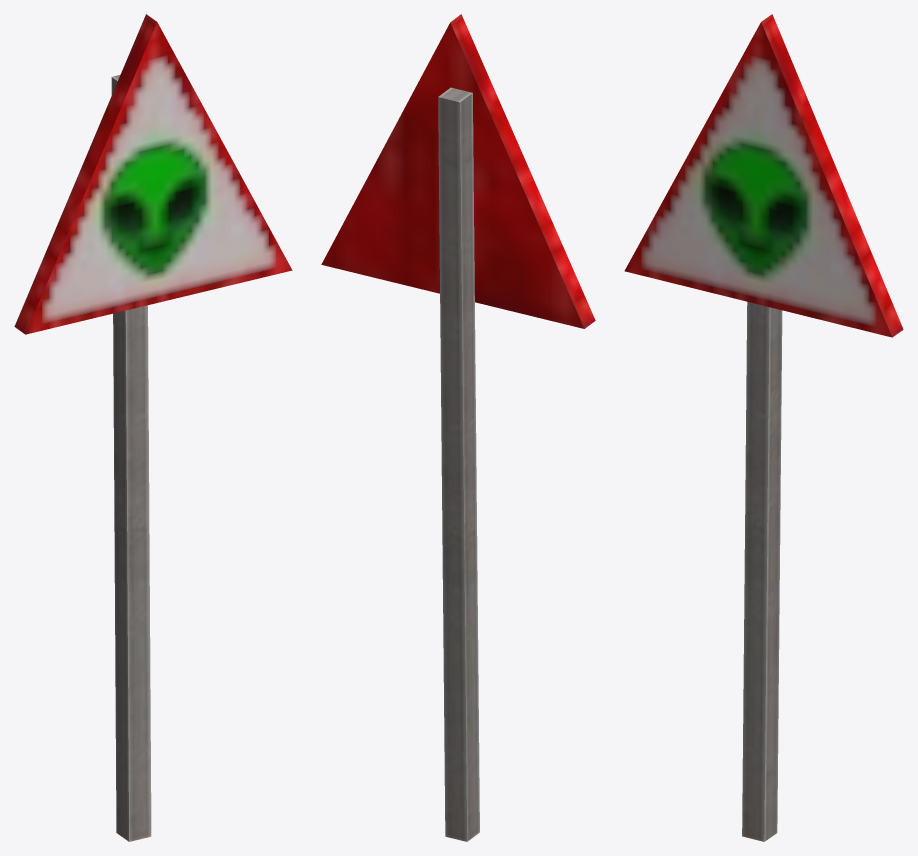
File: colony-alien-sign-art.glb
The picture shows the model from 3 angles, left to right: view 1: azimuth 30°, elevation 25°; view 2: azimuth 150°, elevation 25°; view 3: azimuth 330°, elevation 25°; orthographic projection.
Visible parts, largest first — view 1: Colony_Alien_Sign_Art; view 2: Colony_Alien_Sign_Art; view 3: Colony_Alien_Sign_Art.
Part boxes in pixels (bbox=[...]): Colony_Alien_Sign_Art: bbox=[14, 14, 292, 841]; Colony_Alien_Sign_Art: bbox=[321, 14, 595, 841]; Colony_Alien_Sign_Art: bbox=[624, 14, 903, 841].
Size of the model in its own units: 1.05 by 3.07 by 0.1768.
Materials: 1 (1 with a texture image).
